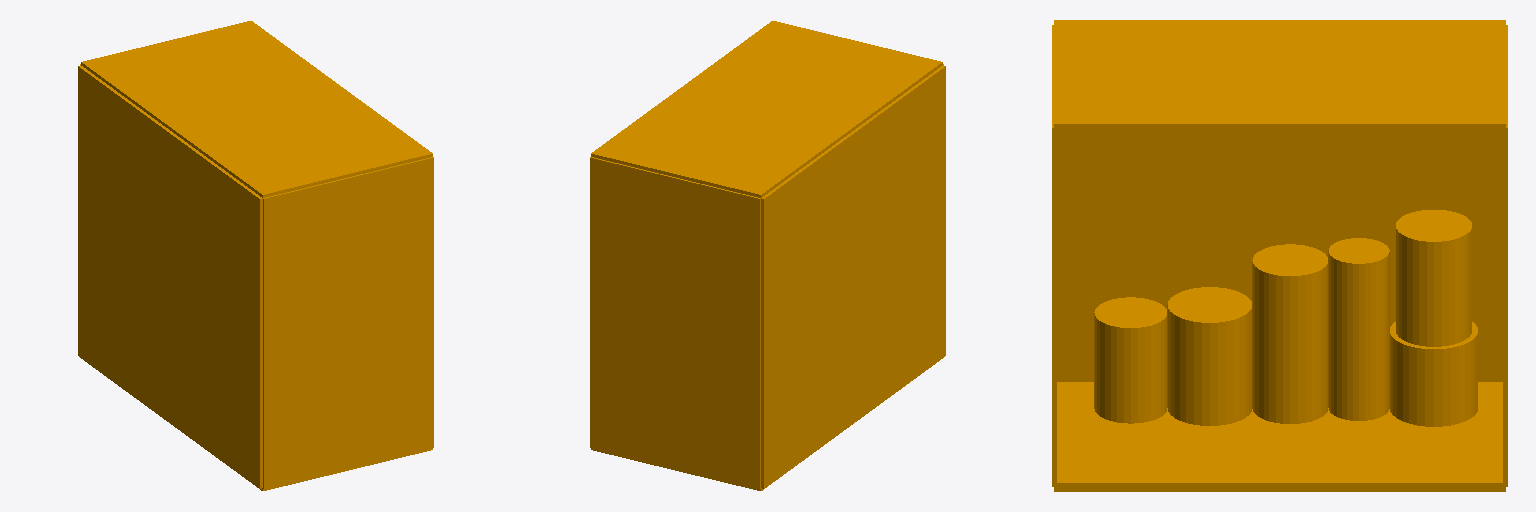
URDF robot description (syn_can_cabinet_packed_nonuniform_266):
<?xml version="1.0" ?>
<robot name="syn_can_cabinet_packed_nonuniform_266">
    <link concave="yes" name="base_link">
        <inertial>
            <origin rpy="0 0 0" xyz="0 0 0"/>
            <mass value="0.0"/>
            <inertia ixx="1e-08" ixy="0" ixz="0" iyy="1e-08" iyz="0" izz="1e-08"/>
        </inertial>
        <visual>
            <origin xyz="0 0 0" rpy="0 0 0" />
            <geometry>
                <mesh filename="syn_can_cabinet_packed_nonuniform_266.obj" scale="1.000000 1.000000 1.000000"/>
            </geometry>         
        </visual>

        <collision concave="yes">
            <origin xyz="0 0 0" rpy="0 0 0"/>
            <geometry>
                <mesh filename="syn_can_cabinet_packed_nonuniform_266.obj" scale="1.000000 1.000000 1.000000"/>
            </geometry>
        </collision>
    </link>
</robot>
    

--- What the picture shows (computed from the rendered views, not written in the file) ---
Views: 3 orthographic renders of the robot side by side, from view 1: azimuth 30°, elevation 25°; view 2: azimuth 150°, elevation 25°; view 3: azimuth 270°, elevation 25°.
Model syn_can_cabinet_packed_nonuniform_266 with 1 links and 0 joints (none), rooted at base_link, posed all joints at 0.
Links seen in each view (by area): view 1: base_link; view 2: base_link; view 3: base_link.
Link boxes in pixels (left/top/right/bottom): base_link: left=78, top=21, right=433, bottom=490; base_link: left=590, top=21, right=945, bottom=490; base_link: left=1052, top=20, right=1507, bottom=491.
Bounding box of the posed robot: 0.1759 × 0.3231 × 0.2877 m (x, y, z).
1 mesh visuals loaded from 1 distinct referenced files (1 OBJ).
